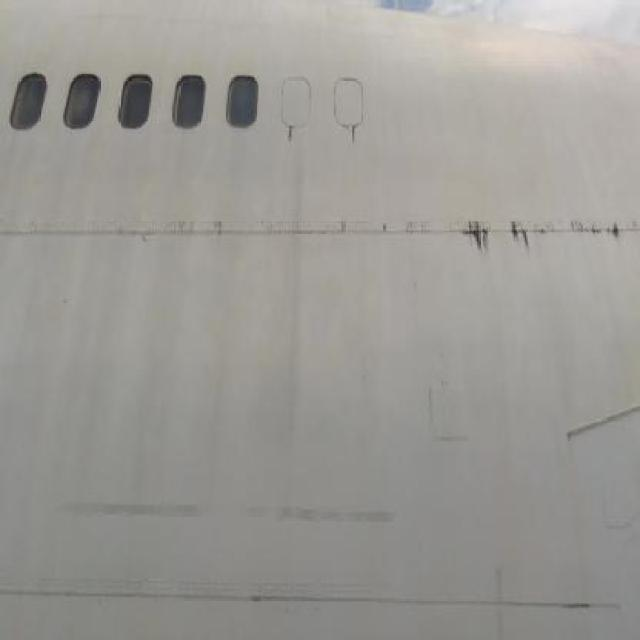Rust: (449, 206, 626, 263), (284, 124, 296, 141), (351, 126, 358, 146)
Scartch: (38, 482, 410, 550)
